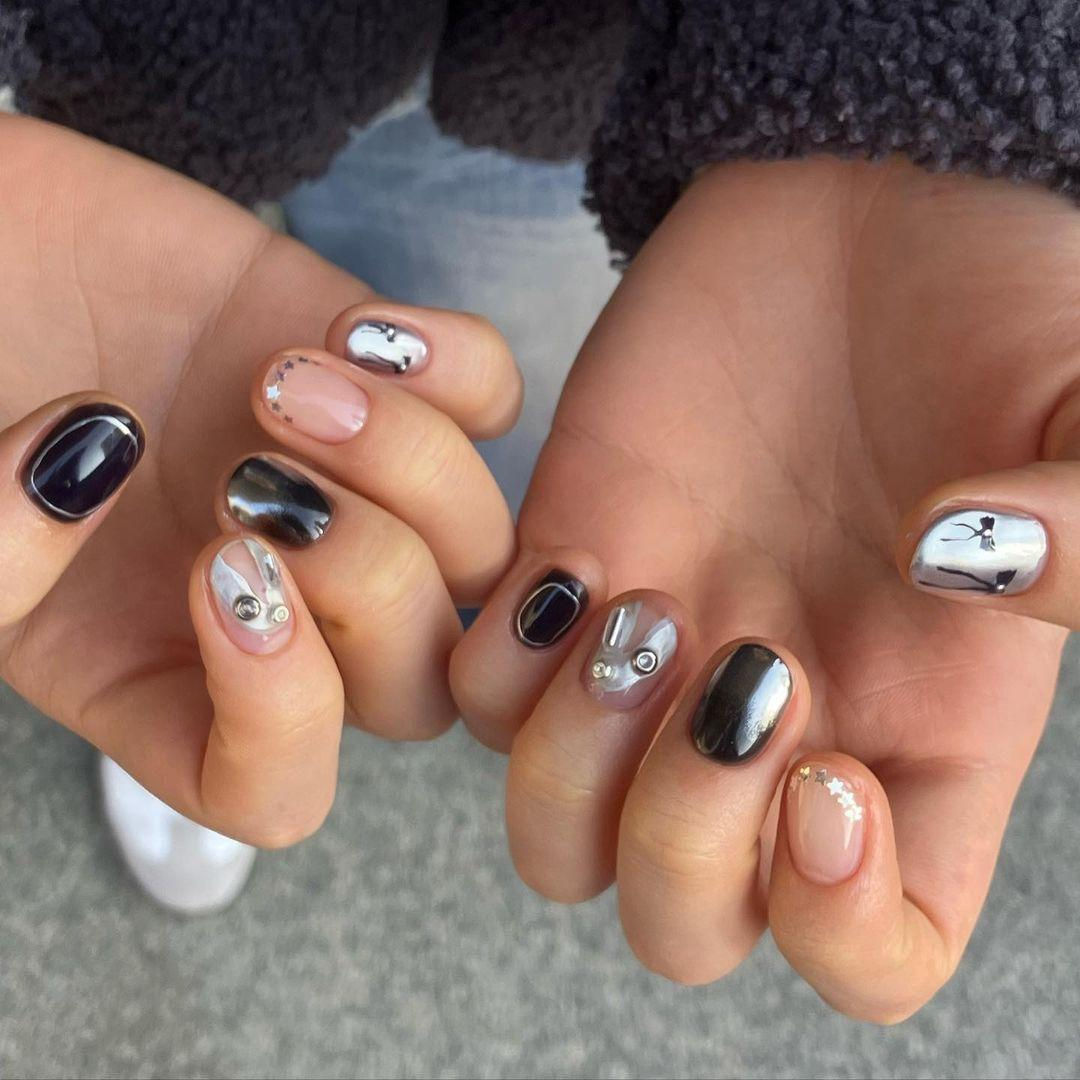nail: (17, 402, 145, 523), (905, 497, 1050, 600), (688, 641, 794, 764), (253, 345, 370, 445), (202, 534, 295, 656), (580, 595, 679, 708), (220, 452, 333, 548), (783, 760, 867, 886), (511, 567, 588, 649), (340, 315, 430, 377)
